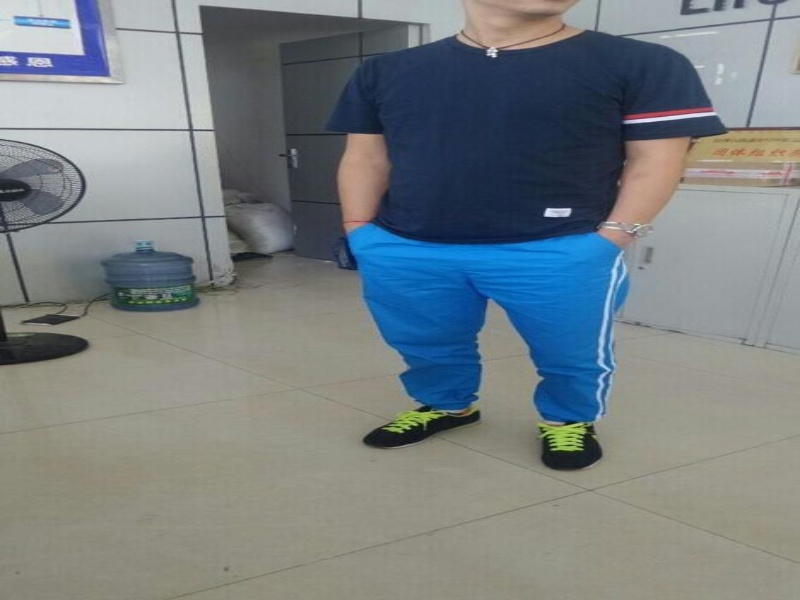short_sleeved_shirt: (320, 27, 735, 250)
trousers: (337, 211, 632, 431)
